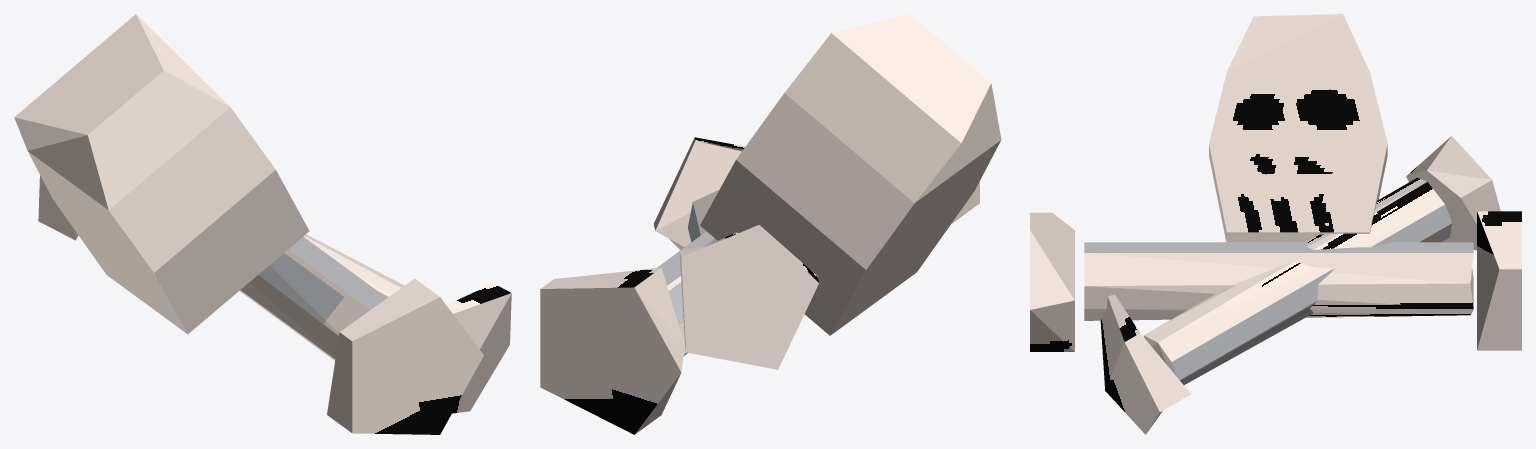
Rendered from bonepile.glb.
The picture shows the model from 3 angles, left to right: view 1: azimuth 30°, elevation 25°; view 2: azimuth 150°, elevation 25°; view 3: azimuth 270°, elevation 25°; orthographic projection. The views are drawn at different scales.
Size of the model in its own units: 4.46 by 4.02 by 5.5.
Materials: 1 (1 with a texture image).
